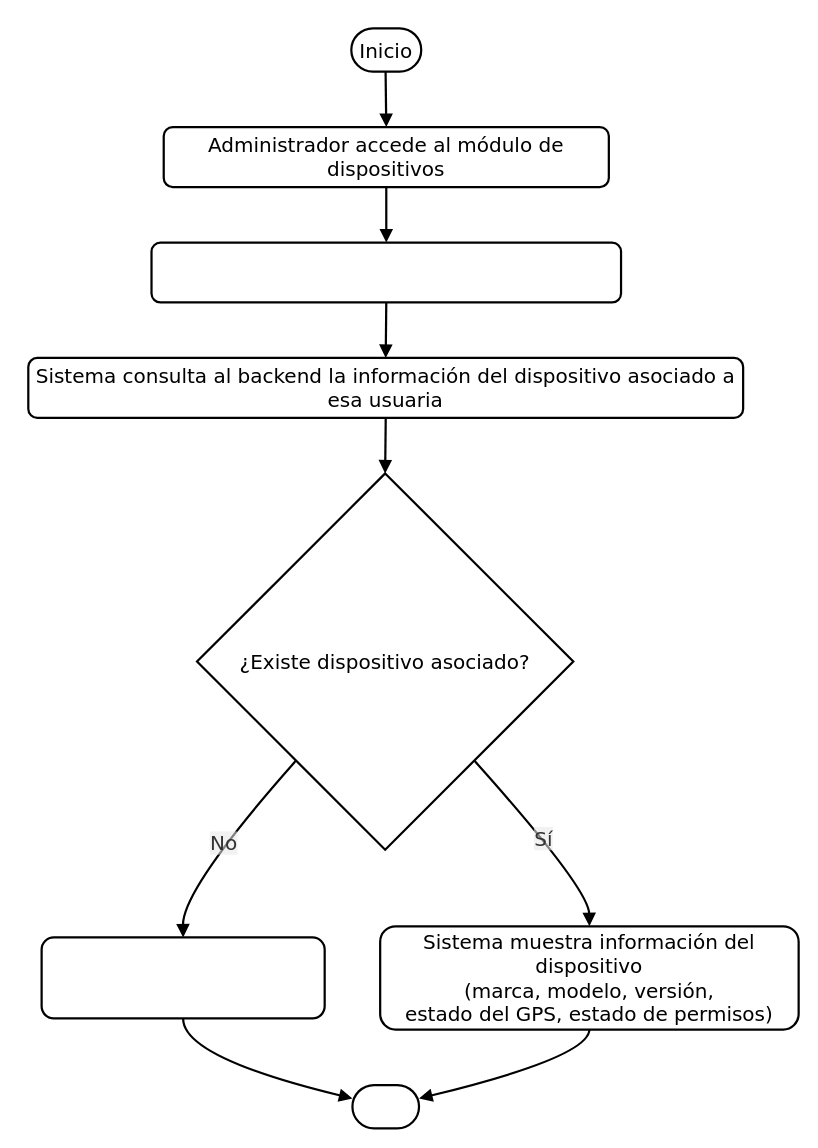
This 818x1148 diagram has some shape labels left out. The centre of each missing label's shape, as x and y in pixels:
"Administrador selecciona una usuaria determinada" belongs at (386,272).
"Fin" belongs at (385,1106).
"Sistema muestra mensaje «sin dispositivo registrado»" belongs at (182,977).
